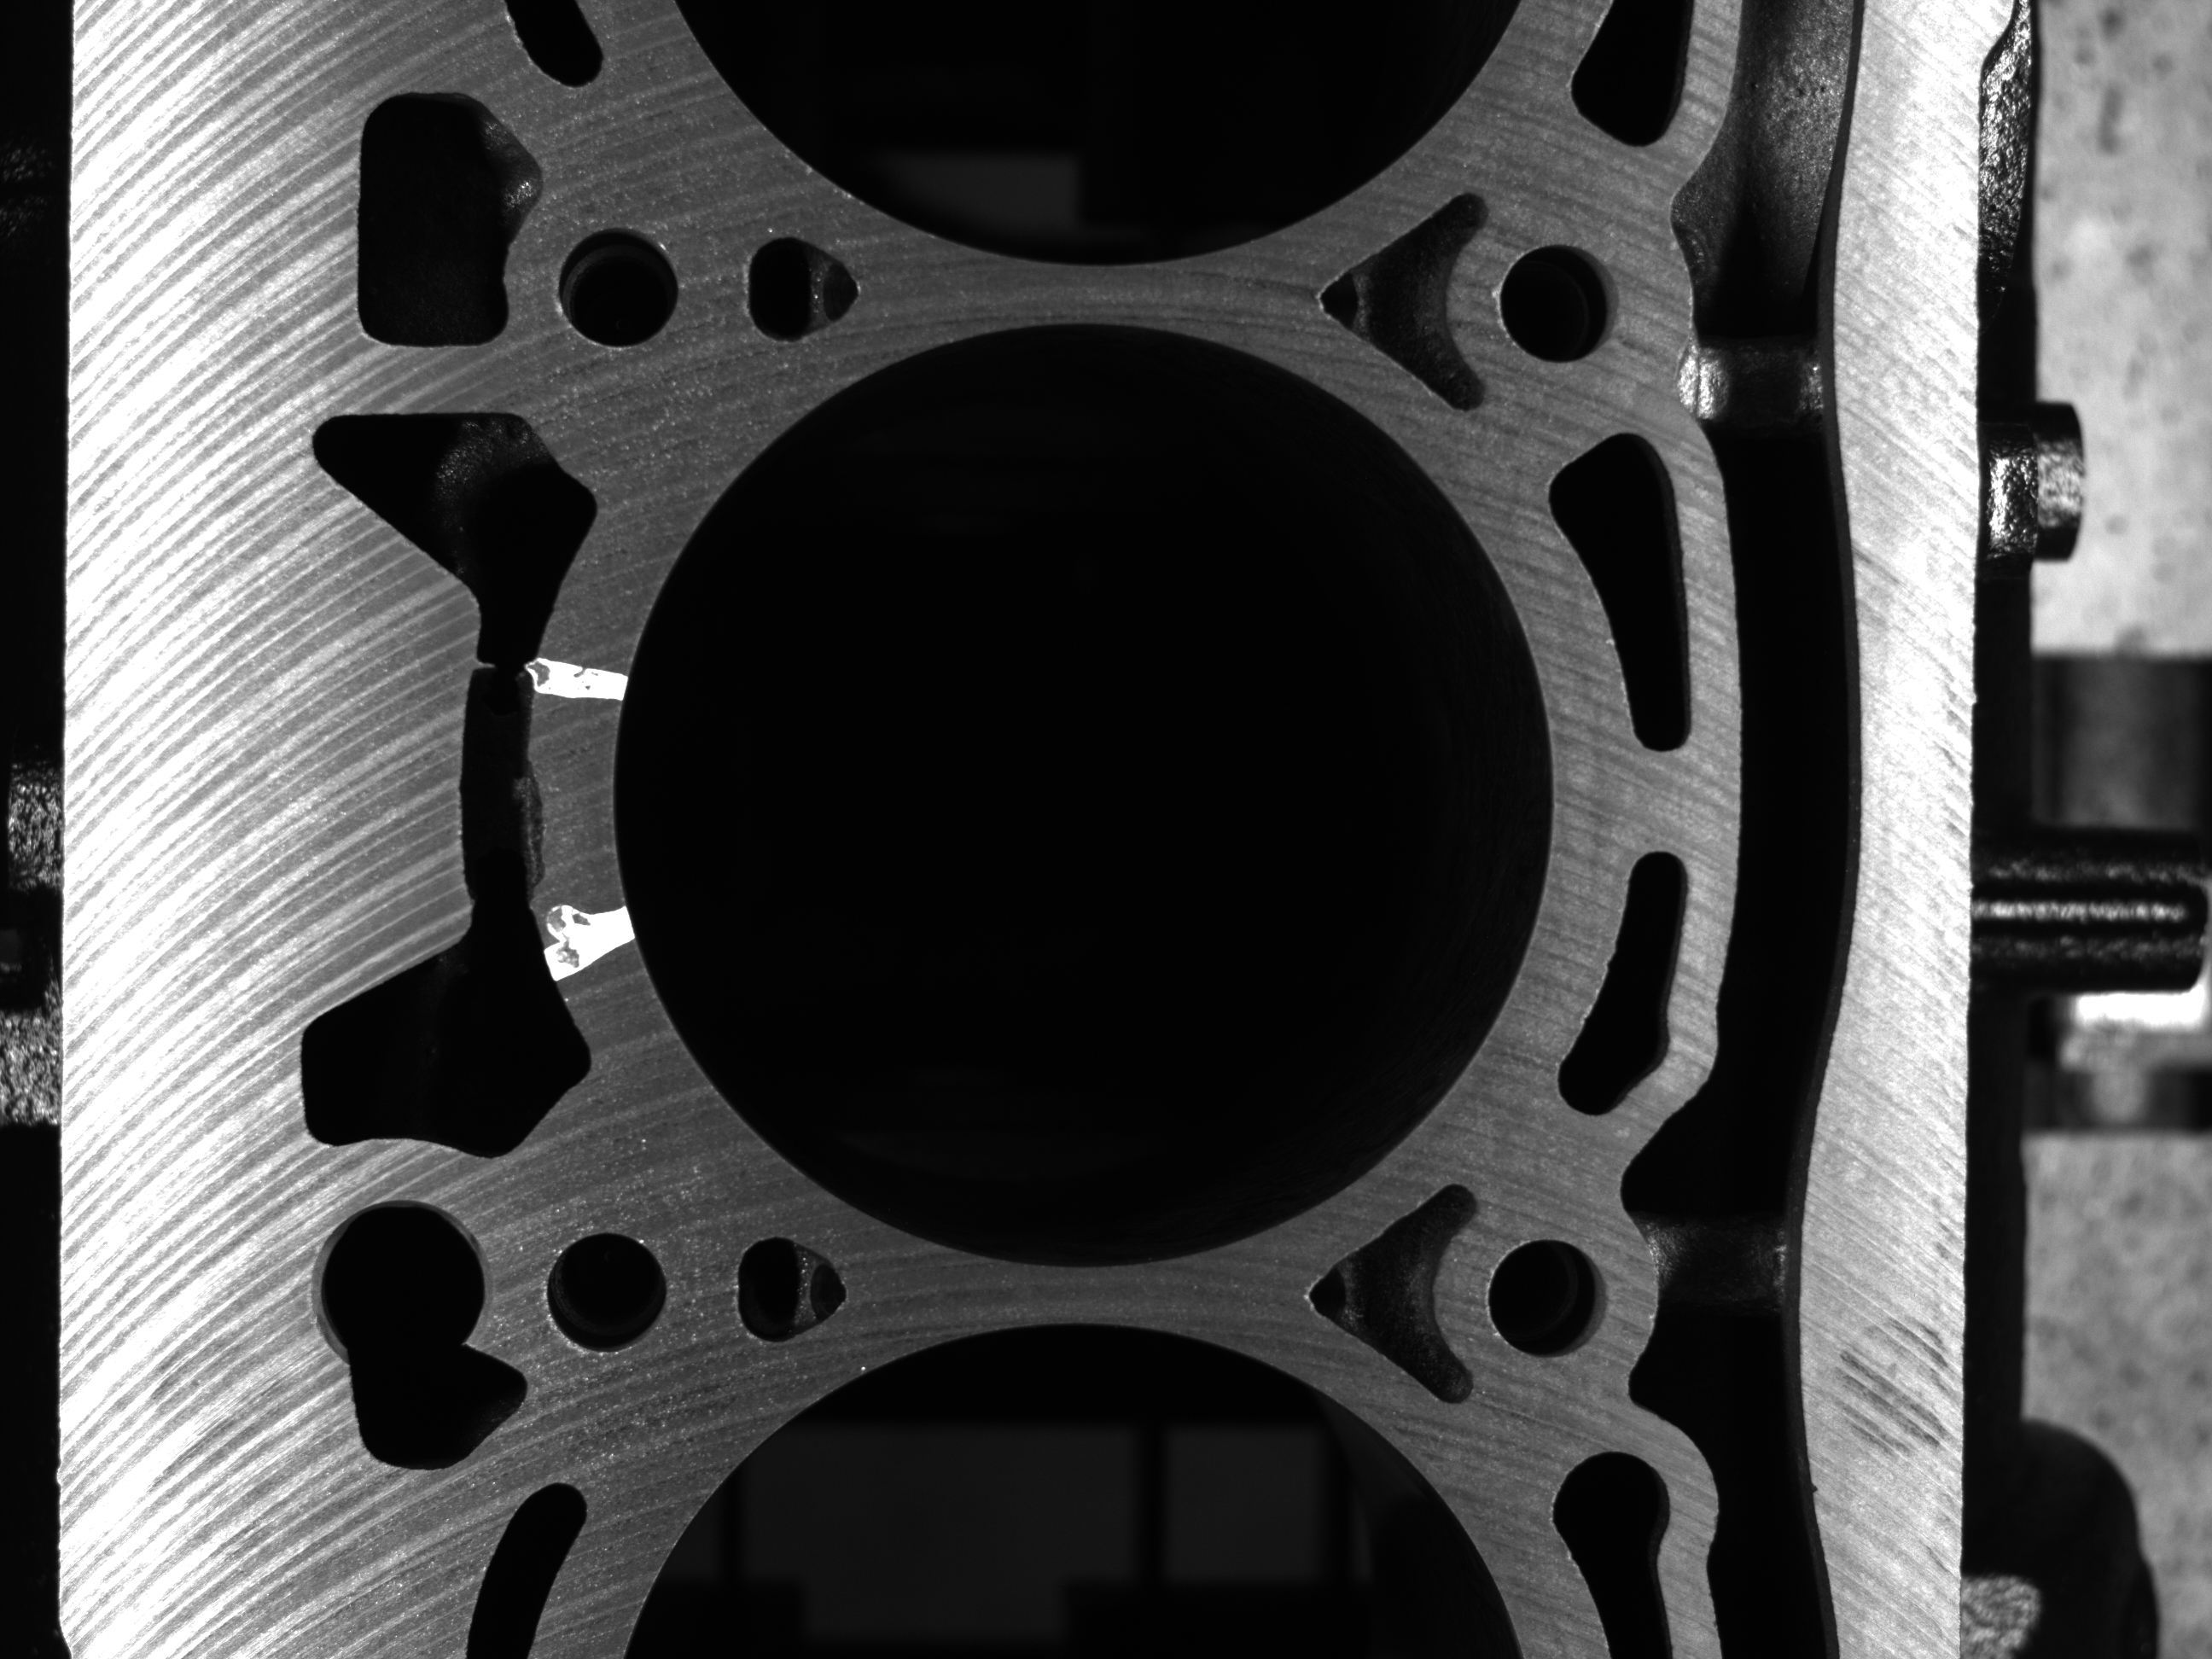shrinkage: (521, 721, 549, 897)
